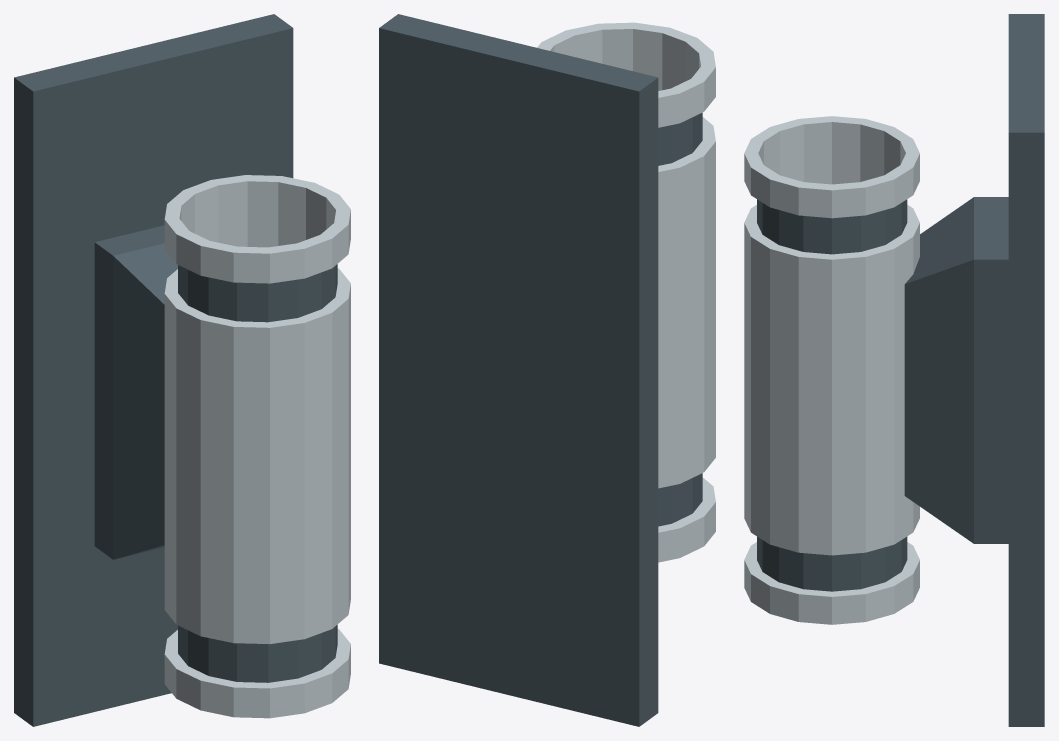
Rendered from WallLight01.fbx.
The picture shows the model from 3 angles, left to right: view 1: azimuth 30°, elevation 25°; view 2: azimuth 150°, elevation 25°; view 3: azimuth 270°, elevation 25°; orthographic projection. The views are drawn at different scales.
Parts seen in each view (by area): view 1: WallLight01; view 2: WallLight01; view 3: WallLight01.
Boxes of the visible parts, left/top/right/bottom form: WallLight01: left=14, top=14, right=350, bottom=726; WallLight01: left=379, top=14, right=715, bottom=726; WallLight01: left=744, top=14, right=1044, bottom=726.
Size of the model in its own units: 11.52 by 26.88 by 12.32.
